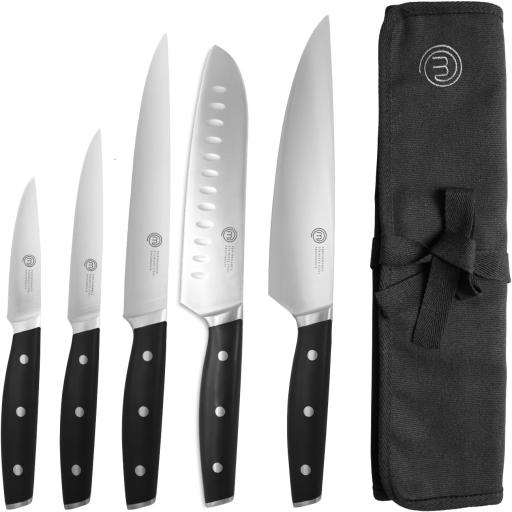knife: (264, 14, 342, 512)
